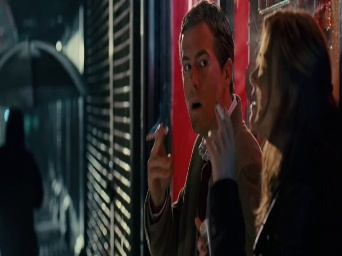smoke: (214, 101, 230, 124), (144, 128, 167, 142)
